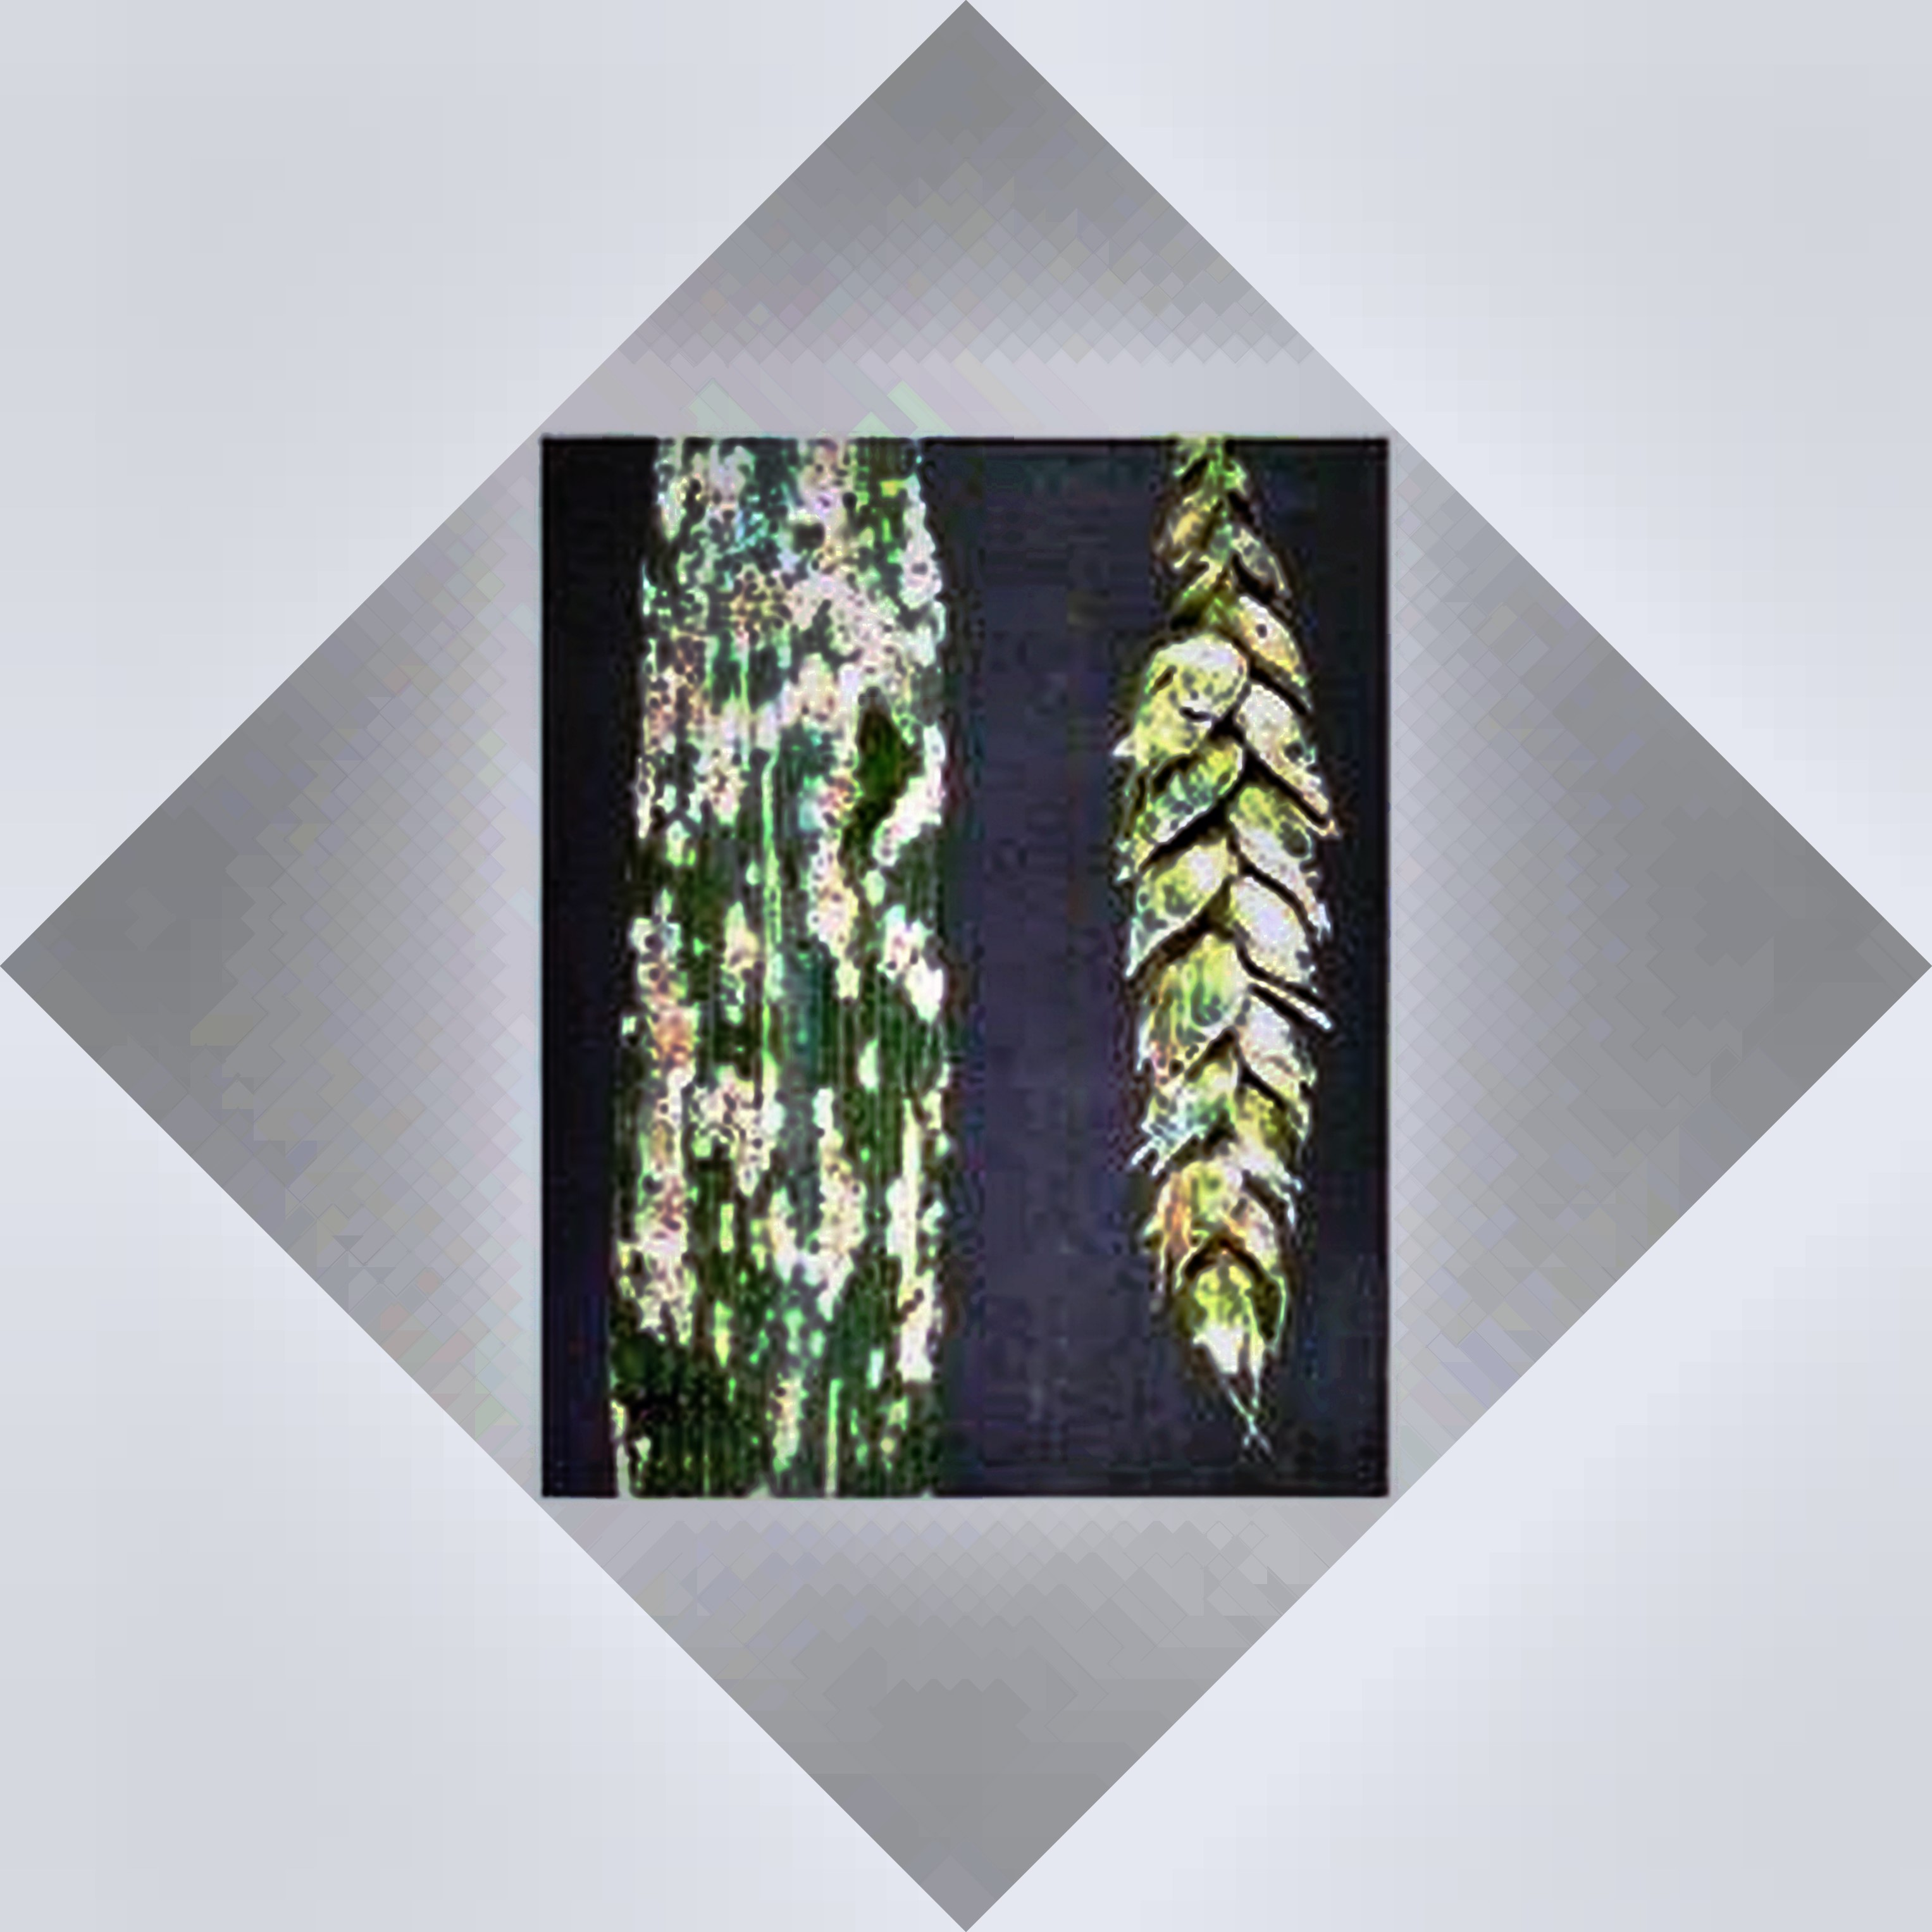Powdery Mildew: (614, 460, 962, 1470)
